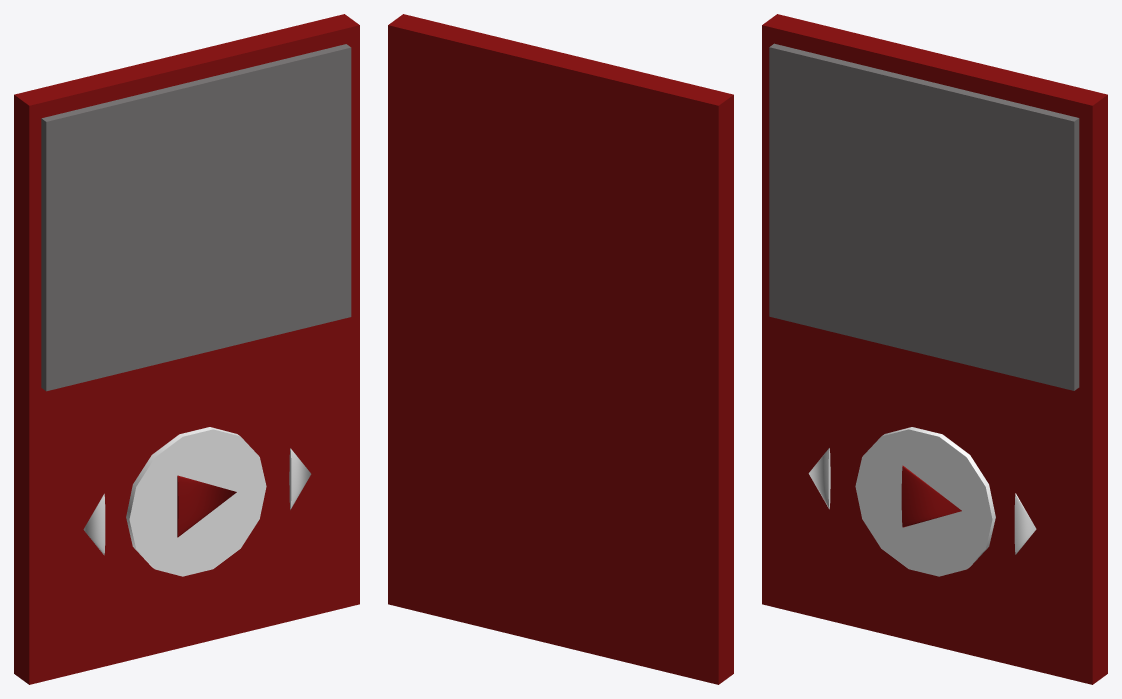
3 views of the same model, side by side, from view 1: azimuth 30°, elevation 25°; view 2: azimuth 150°, elevation 25°; view 3: azimuth 330°, elevation 25° (orthographic).
Parts seen in each view (by area): view 1: Base, Pantalla, Play, pCone1, pCone3, pCone2; view 2: Base; view 3: Base, Pantalla, Play, pCone1, pCone2, pCone3.
Part boxes in pixels (<box>): Base: <box>14,14,359,684</box>; Pantalla: <box>41,44,351,391</box>; Play: <box>126,427,266,576</box>; pCone1: <box>177,475,236,537</box>; pCone3: <box>83,493,105,555</box>; pCone2: <box>289,448,311,509</box>; Base: <box>388,14,733,684</box>; Base: <box>762,14,1107,684</box>; Pantalla: <box>769,43,1079,390</box>; Play: <box>855,427,995,576</box>; pCone1: <box>901,465,961,527</box>; pCone2: <box>1014,493,1036,554</box>; pCone3: <box>808,448,830,509</box>.
Size of the model in its own units: 0.1108 by 0.1856 by 0.0117.
